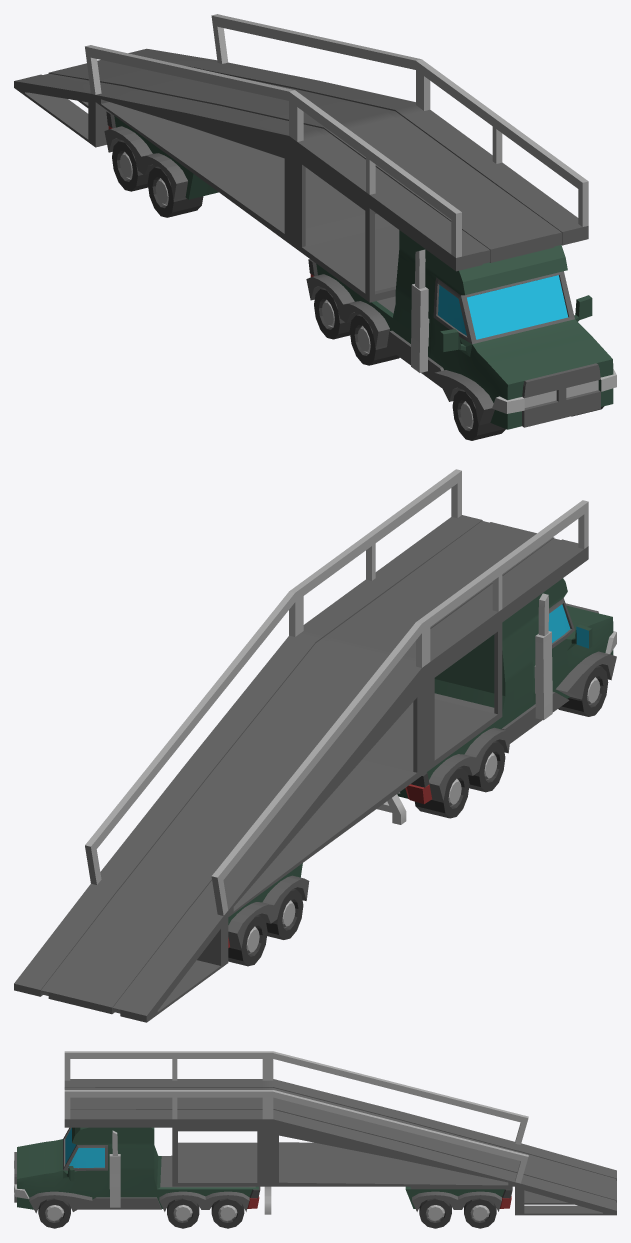
File: Semi with Ramp Trailer.fbx
3 views of the same model, one above another, from view 1: azimuth 30°, elevation 25°; view 2: azimuth 150°, elevation 25°; view 3: azimuth 270°, elevation 25° (orthographic). The views are drawn at different scales.
Parts seen in each view (by area): view 1: polySurface32, polySurface31; view 2: polySurface32, polySurface31; view 3: polySurface32, polySurface31.
Boxes of the visible parts, x1=… form: polySurface32: x1=14, y1=14, x2=588, y2=302; polySurface31: x1=306, y1=230, x2=616, y2=440; polySurface32: x1=14, y1=469, x2=588, y2=1022; polySurface31: x1=397, y1=578, x2=616, y2=818; polySurface32: x1=64, y1=1051, x2=616, y2=1228; polySurface31: x1=14, y1=1127, x2=260, y2=1228.
Bounding box in the file's own units: 4.23 × 5.98 × 23.76.
